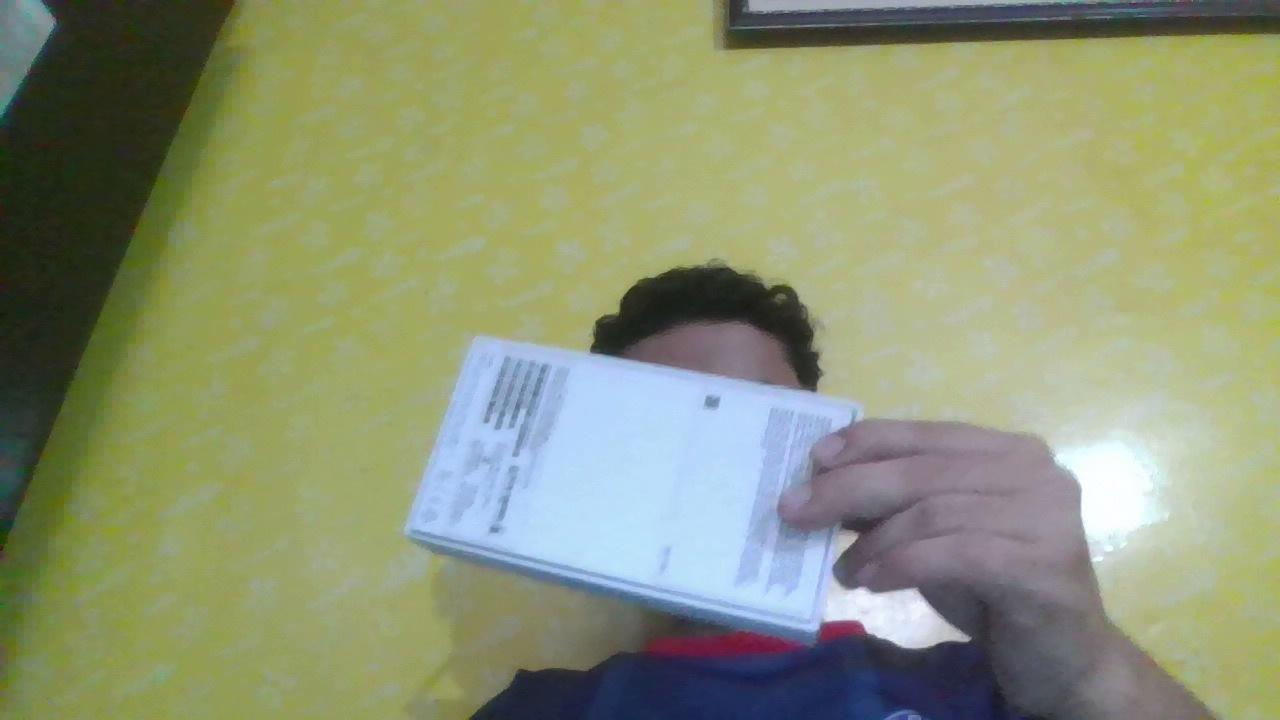Phone: (411, 295, 875, 658)
